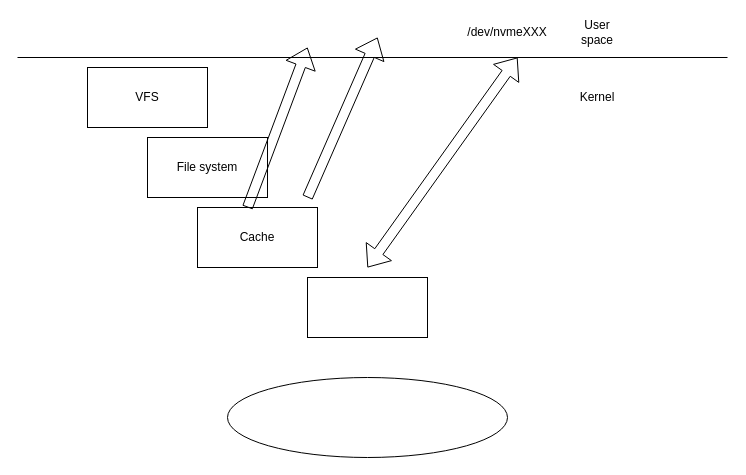
This 746x475 diagram has some shape labels left out. The shapes that lost their labels are listed below. From the top down, each one's box as (x1, y1, x2, y2) in pixels, then its label:
(306, 276, 428, 338): DD
(226, 376, 508, 458): Disk
